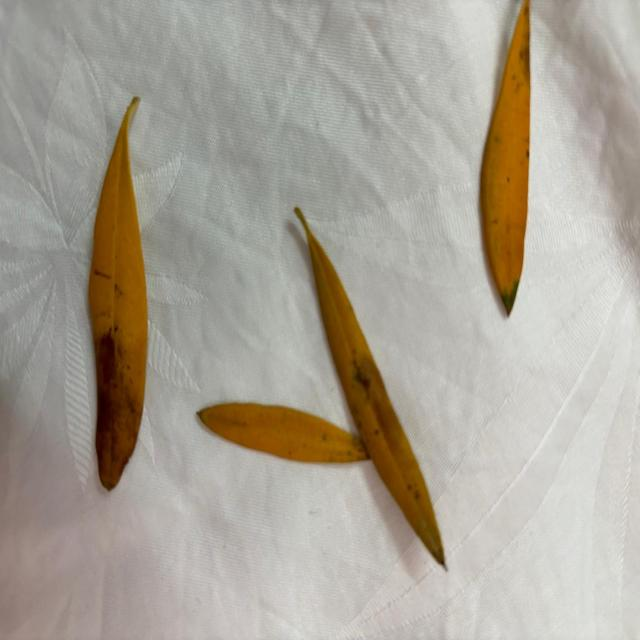Peacock Eye: (294, 207, 444, 566), (88, 97, 148, 490), (480, 0, 530, 315), (196, 403, 368, 463)
